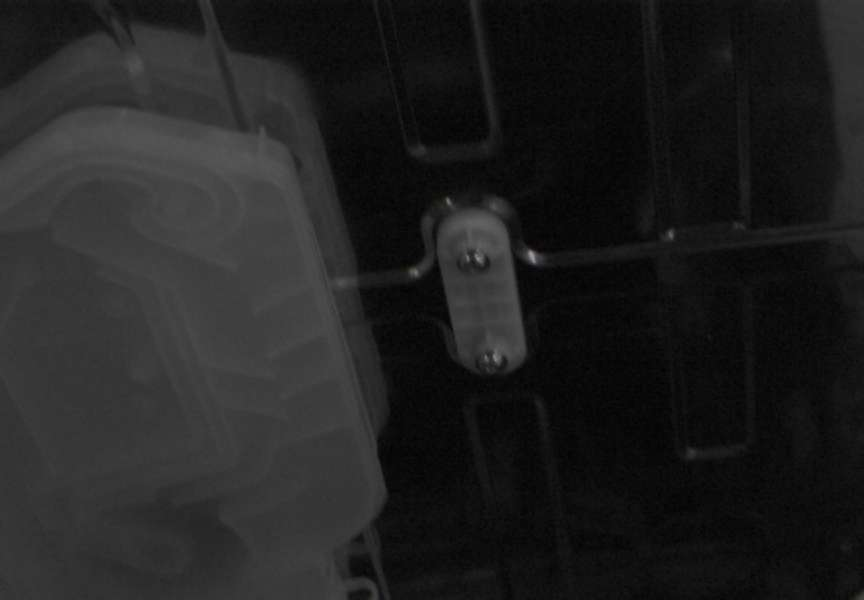screw: (475, 349, 508, 376), (457, 248, 490, 274)
